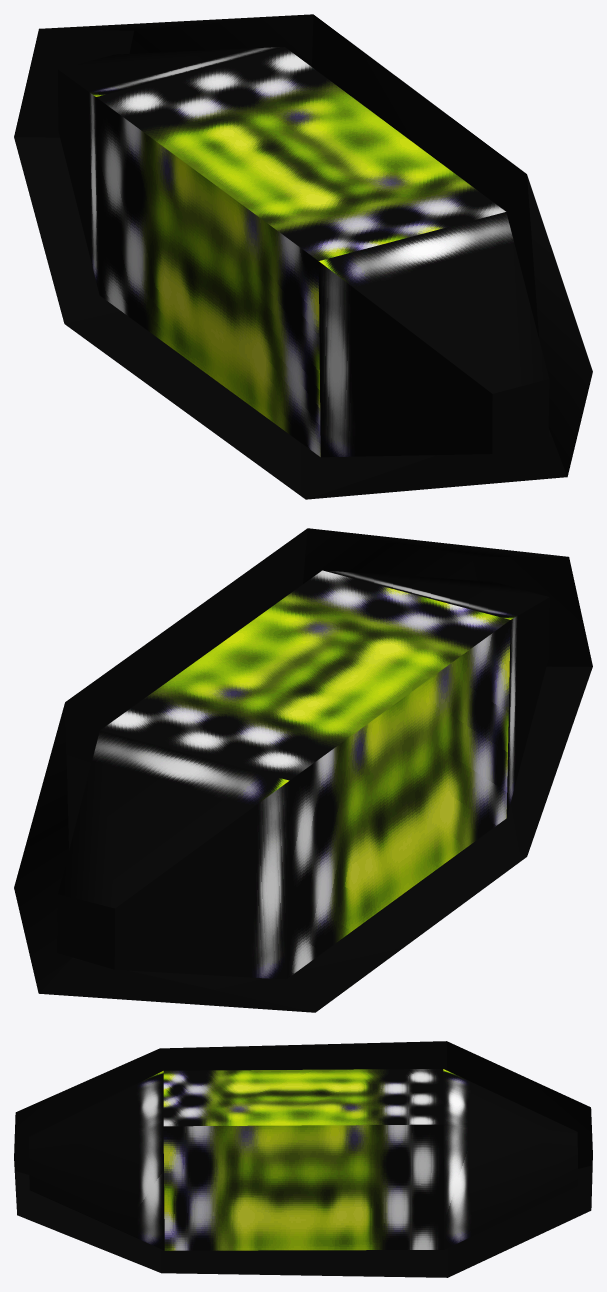
The model's file is pipebomb_yellow.glb.
3 views of the same model, one above another, from view 1: azimuth 30°, elevation 25°; view 2: azimuth 150°, elevation 25°; view 3: azimuth 270°, elevation 25° (orthographic). The views are drawn at different scales.
Visible parts, largest first — view 1: pipebomb.mdl; view 2: pipebomb.mdl; view 3: pipebomb.mdl.
Boxes of the visible parts, box(x1,y1,x2,y2) form: pipebomb.mdl: box(14, 14, 592, 499); pipebomb.mdl: box(14, 528, 592, 1012); pipebomb.mdl: box(14, 1041, 592, 1277).
Bounding box in the file's own units: 5.99 × 6.03 × 18.35.
Materials: 4 (4 with a texture image).
